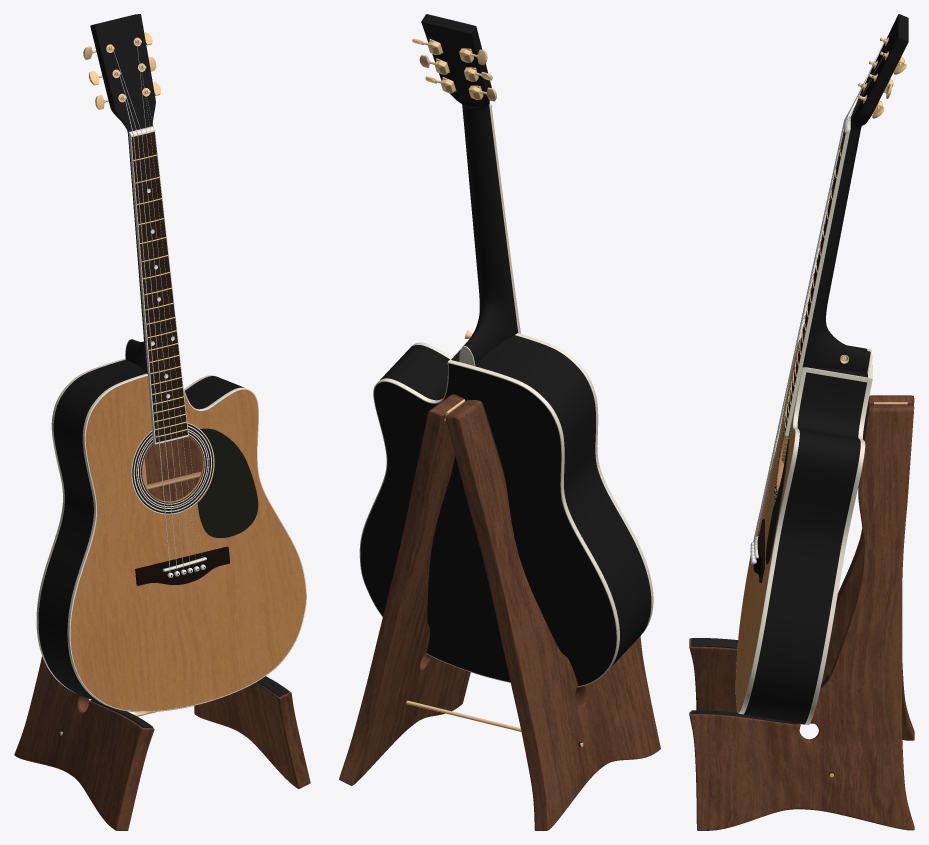
The model's file is guitar-on-stand.glb.
The picture shows the model from 3 angles, left to right: view 1: azimuth 30°, elevation 25°; view 2: azimuth 150°, elevation 25°; view 3: azimuth 270°, elevation 25°; orthographic projection. The views are drawn at different scales.
Parts seen in each view (by area): view 1: guitar-on-stand; view 2: guitar-on-stand; view 3: guitar-on-stand.
Boxes of the visible parts, x1,y1,x2,y2 form: guitar-on-stand: (14, 14, 310, 830); guitar-on-stand: (339, 14, 660, 830); guitar-on-stand: (689, 14, 914, 830).
Size of the model in its own units: 0.395 by 1.15 by 0.3095.
16 materials, 8 textured.
